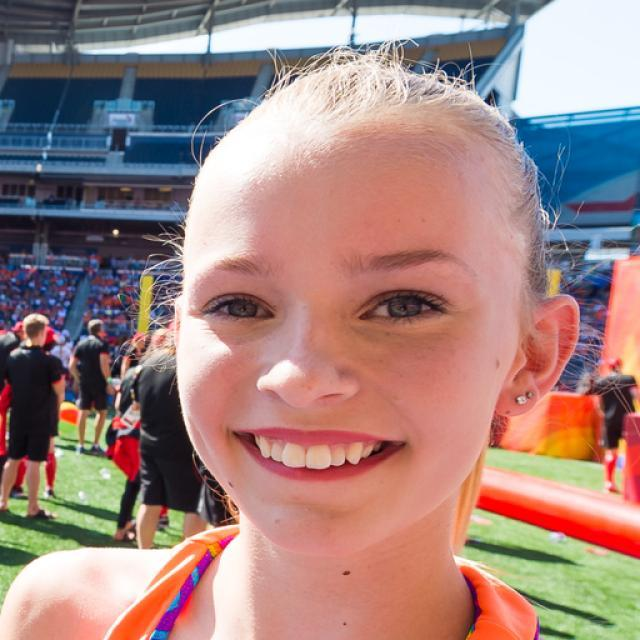happy: (177, 112, 520, 557)
